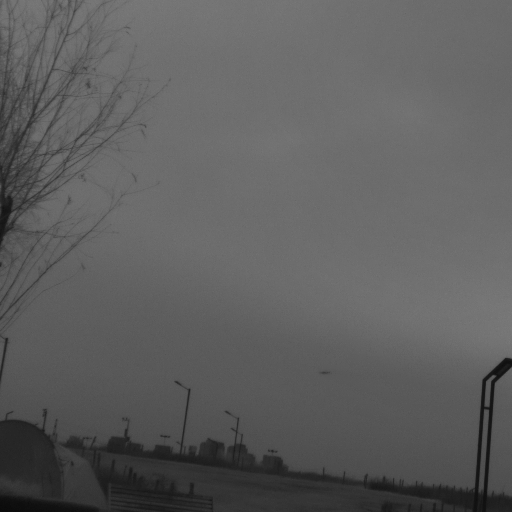uav: (319, 371, 330, 374)
